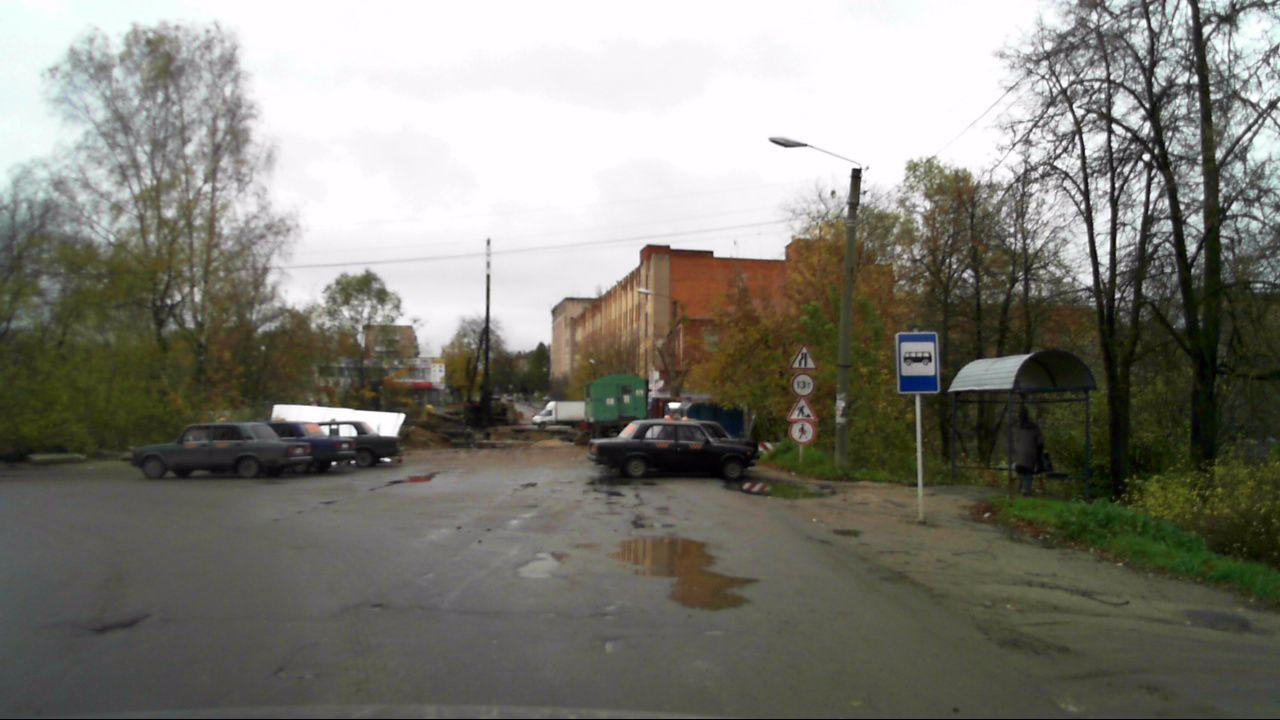1_20_3: (790, 344, 820, 370)
1_25: (787, 396, 818, 421)
3_10: (790, 420, 816, 444)
3_11: (792, 371, 815, 395)
5_16: (895, 331, 940, 394)
